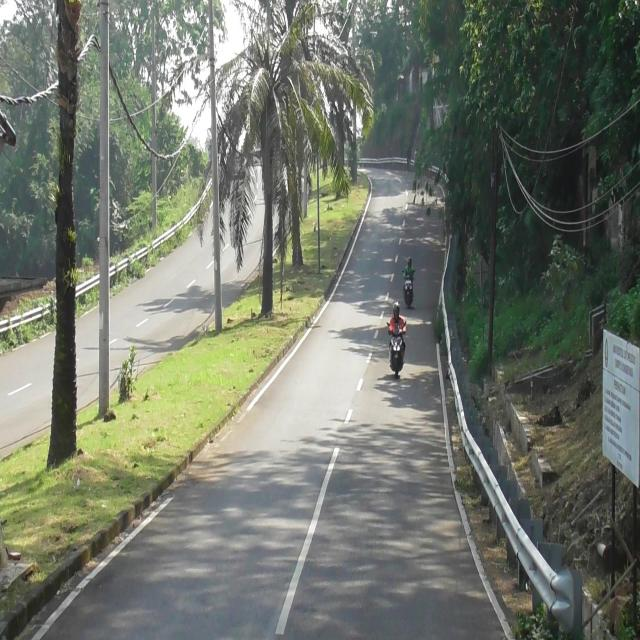motorcycle: (388, 325, 406, 379), (403, 275, 414, 306)
person: (388, 302, 407, 334), (404, 256, 414, 277)
rider_region: (386, 302, 407, 381), (401, 248, 416, 308)
